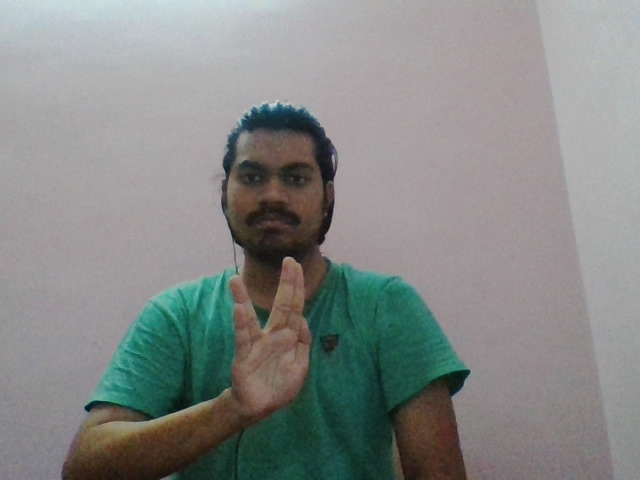LiveLong: (230, 255, 311, 416)
